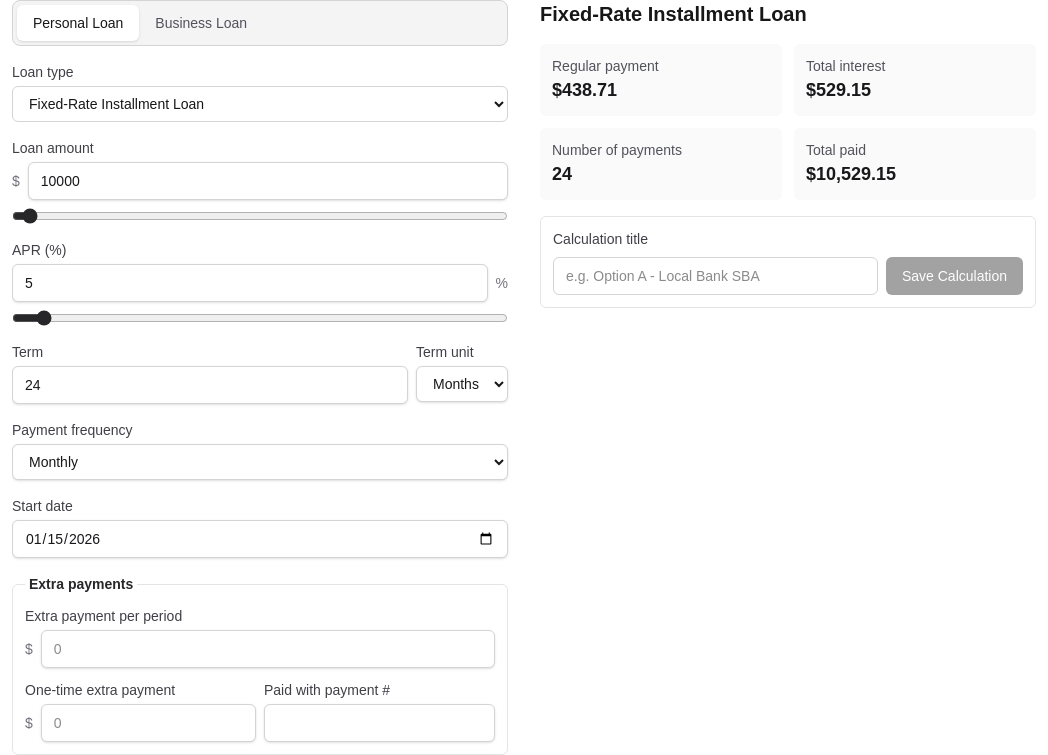
Test: Calculator form (REQ-UI-003, REQ-NFR-CODE2) › updates the table as inputs change
Step 1. Replace the text in the field labelled "Term" with "36" → (210, 385), box [12,366,408,404]
(page scrolled)
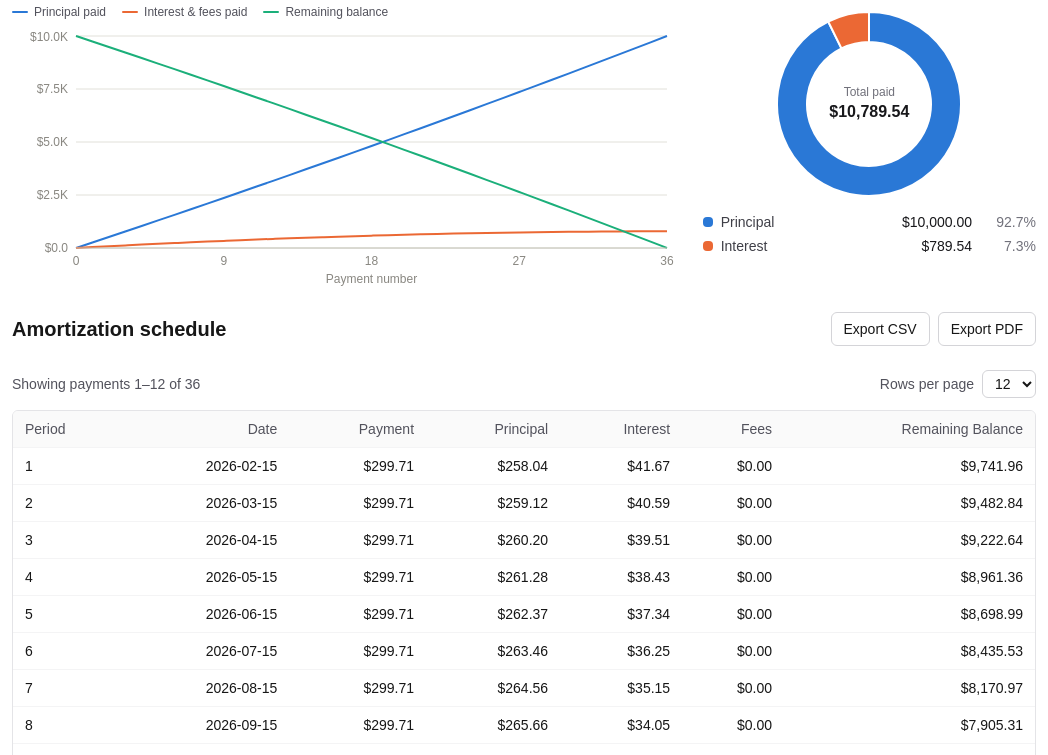
Check: the message shows "of 36", box [12,376,200,392]
